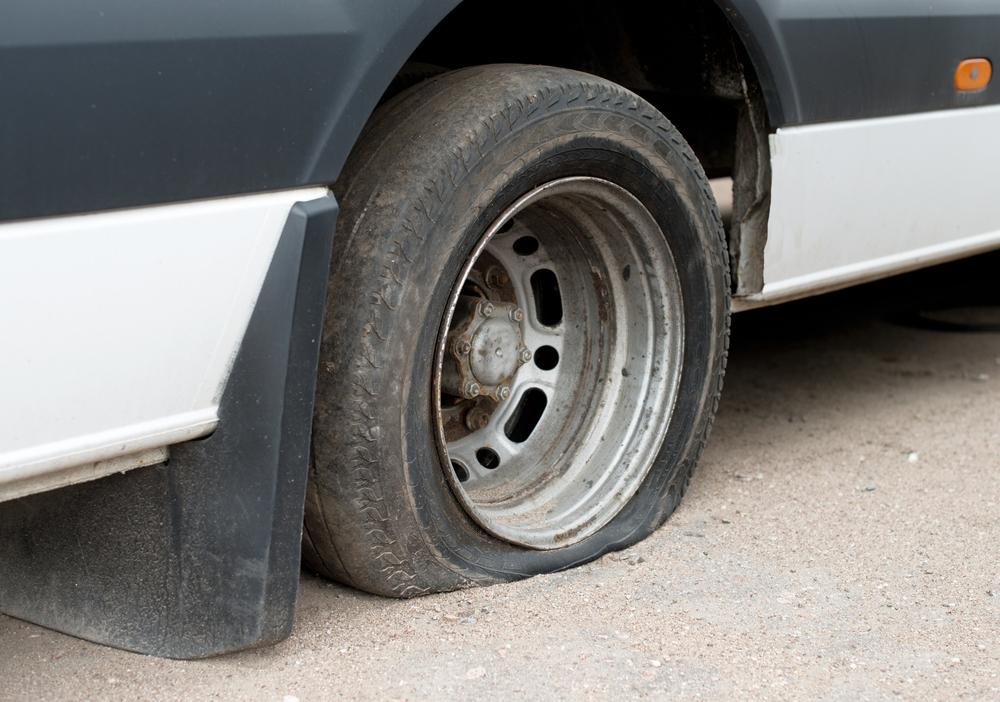tire flat: (299, 63, 731, 596)
